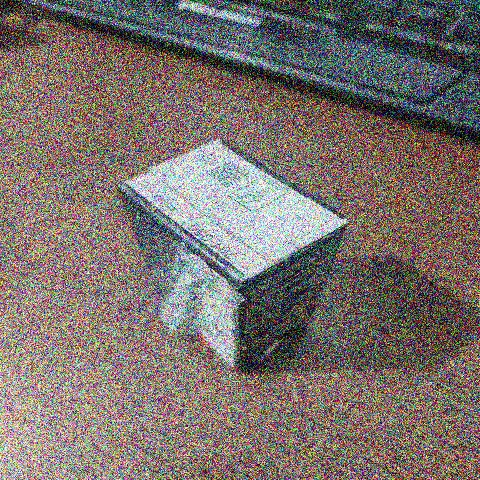appy: (94, 121, 355, 386)
